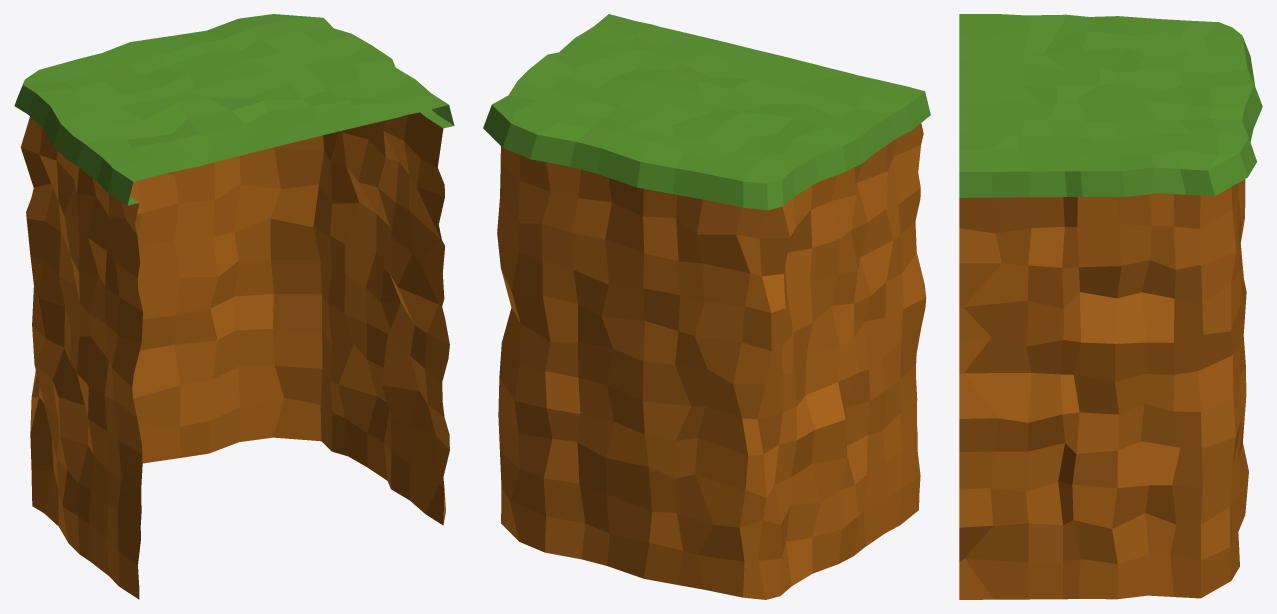
Rendered from Castle_Level_Floor.fbx.
3 views of the same model, side by side, from view 1: azimuth 30°, elevation 25°; view 2: azimuth 150°, elevation 25°; view 3: azimuth 270°, elevation 25° (orthographic). The views are drawn at different scales.
Visible parts, largest first — view 1: Castle_Level_Floor; view 2: Castle_Level_Floor; view 3: Castle_Level_Floor.
Boxes of the visible parts, x1,y1,x2,y2 form: Castle_Level_Floor: (14,14,454,599); Castle_Level_Floor: (483,14,930,599); Castle_Level_Floor: (959,14,1262,599).
Bounding box in the file's own units: 7.31 × 8.95 × 5.66.
